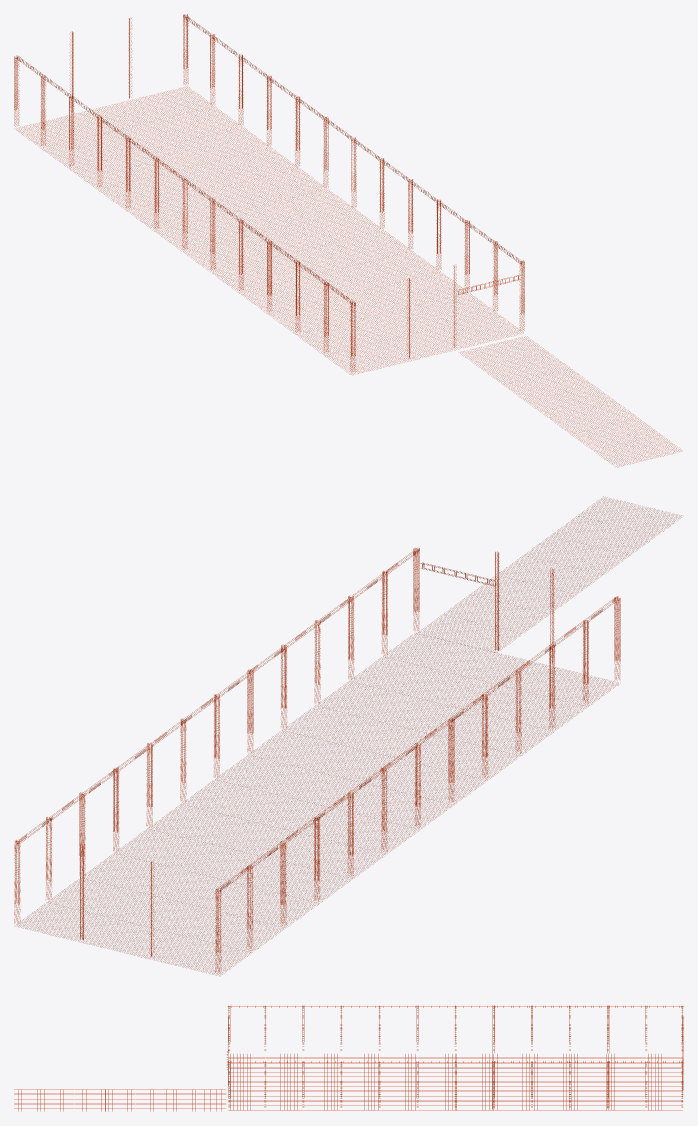
Rendered from besi2.glb.
3 views of the same model, one above another, from view 1: azimuth 30°, elevation 25°; view 2: azimuth 150°, elevation 25°; view 3: azimuth 270°, elevation 25° (orthographic). The views are drawn at different scales.
Parts seen in each view (by area): view 1: besi2; view 2: besi2; view 3: besi2.
Boxes of the visible parts, x1=… form: besi2: x1=14, y1=14, x2=681, y2=467; besi2: x1=14, y1=496, x2=681, y2=976; besi2: x1=14, y1=1005, x2=683, y2=1111.
Size of the model in its own units: 17.71 by 8.48 by 87.91.
